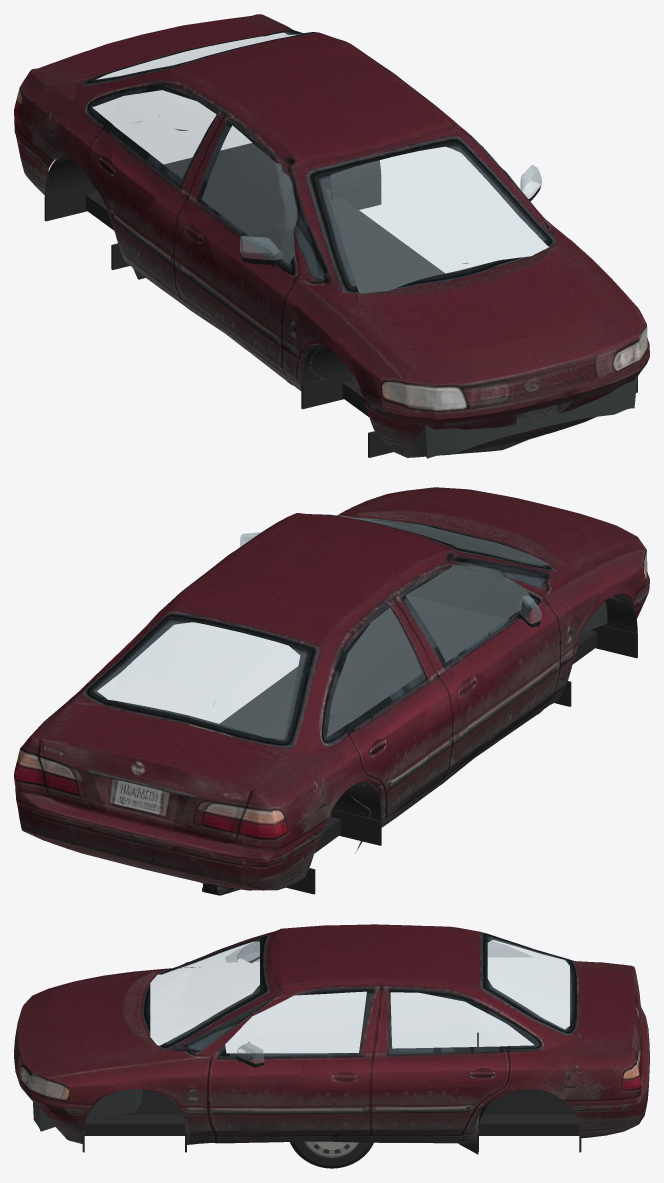
The model's file is maroon-saloon.glb.
The picture shows the model from 3 angles, top to bottom: view 1: azimuth 30°, elevation 25°; view 2: azimuth 150°, elevation 25°; view 3: azimuth 270°, elevation 25°; orthographic projection. The views are drawn at different scales.
Visible parts, largest first — view 1: MaroonBody, Bonnet, WheelWells, Windshield, DoorFrontL, DoorRearL, GlassFrontL, GlassRearL, EngineCompartment, RearGlass, DoorFrontR; view 2: MaroonBody, WheelWells, DoorFrontL, RearGlass, DoorRearL, Bonnet, GlassFrontL, EngineCompartment, GlassRearL, Windshield; view 3: MaroonBody, DoorFrontR, DoorRearR, Bonnet, WheelWells, GlassFrontR, Windshield, GlassRearR, RearGlass, WheelPrototype, EngineCompartment, GlassFrontL (+1 smaller).
Boxes of the visible parts, x1,y1,x2,y2 form: MaroonBody: [14, 14, 649, 457]; Bonnet: [357, 252, 641, 384]; WheelWells: [44, 143, 637, 457]; Windshield: [325, 147, 548, 293]; DoorFrontL: [176, 116, 327, 375]; DoorRearL: [81, 78, 230, 290]; GlassFrontL: [202, 125, 296, 263]; GlassRearL: [92, 90, 216, 178]; EngineCompartment: [415, 376, 637, 458]; RearGlass: [98, 33, 297, 78]; DoorFrontR: [397, 76, 558, 230]; MaroonBody: [14, 487, 649, 895]; WheelWells: [220, 594, 637, 894]; DoorFrontL: [397, 554, 571, 767]; RearGlass: [97, 622, 299, 737]; DoorRearL: [329, 594, 451, 810]; Bonnet: [358, 487, 640, 563]; GlassFrontL: [406, 565, 541, 662]; EngineCompartment: [359, 517, 607, 634]; GlassRearL: [327, 608, 421, 736]; Windshield: [331, 514, 549, 565]; MaroonBody: [14, 924, 649, 1154]; DoorFrontR: [188, 985, 372, 1131]; DoorRearR: [376, 986, 531, 1131]; Bonnet: [31, 973, 144, 1074]; WheelWells: [82, 1032, 581, 1152]; GlassFrontR: [225, 992, 366, 1063]; Windshield: [150, 942, 259, 1045]; GlassRearR: [390, 992, 533, 1048]; RearGlass: [488, 940, 569, 1028]; WheelPrototype: [290, 1141, 373, 1168]; EngineCompartment: [33, 1089, 142, 1131]; GlassFrontL: [226, 941, 259, 961].
Bounding box in the file's own units: 1.96 × 1.76 × 4.7.
7 materials, 3 textured.
